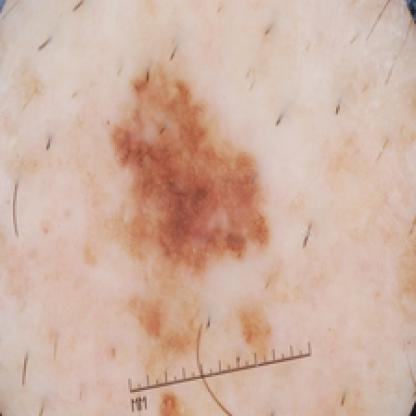malignant: (119, 72, 260, 286)
